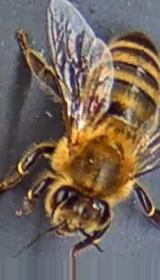varroa_mite: (82, 84, 109, 118)
